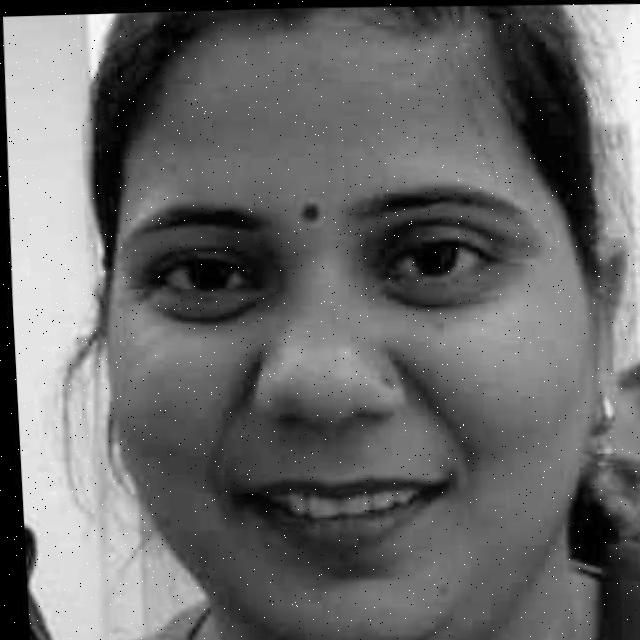puffy_eyes: (143, 285, 263, 319), (378, 272, 504, 304)
